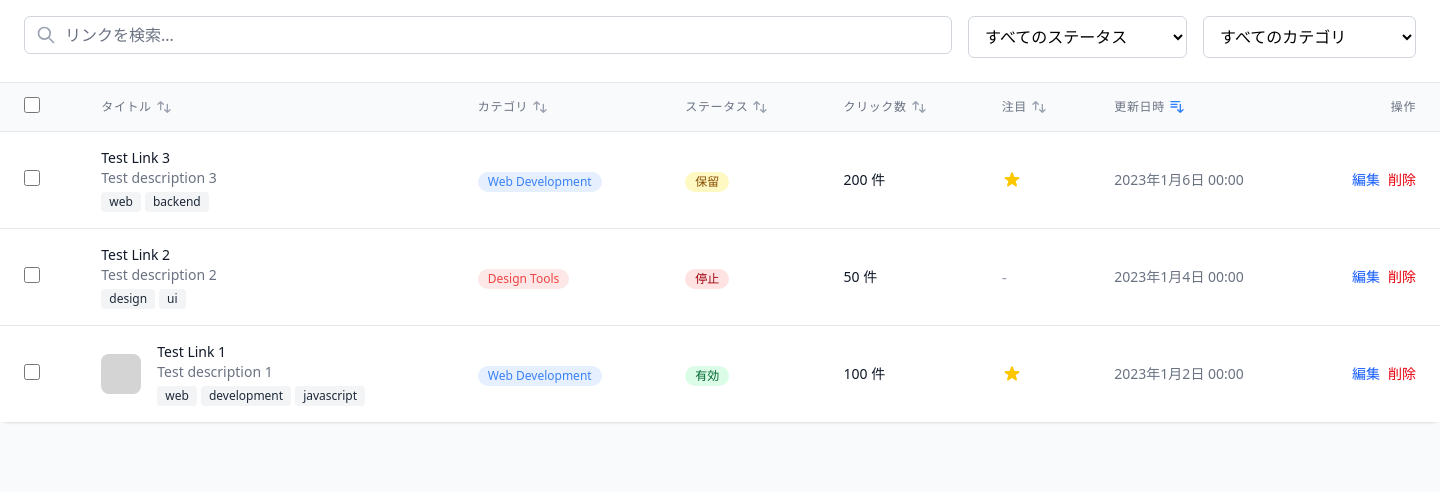
LinkManagementTable › handles link selection
Click the checkbox below "Test Link 3" at (32, 178), box [24,170,40,186]
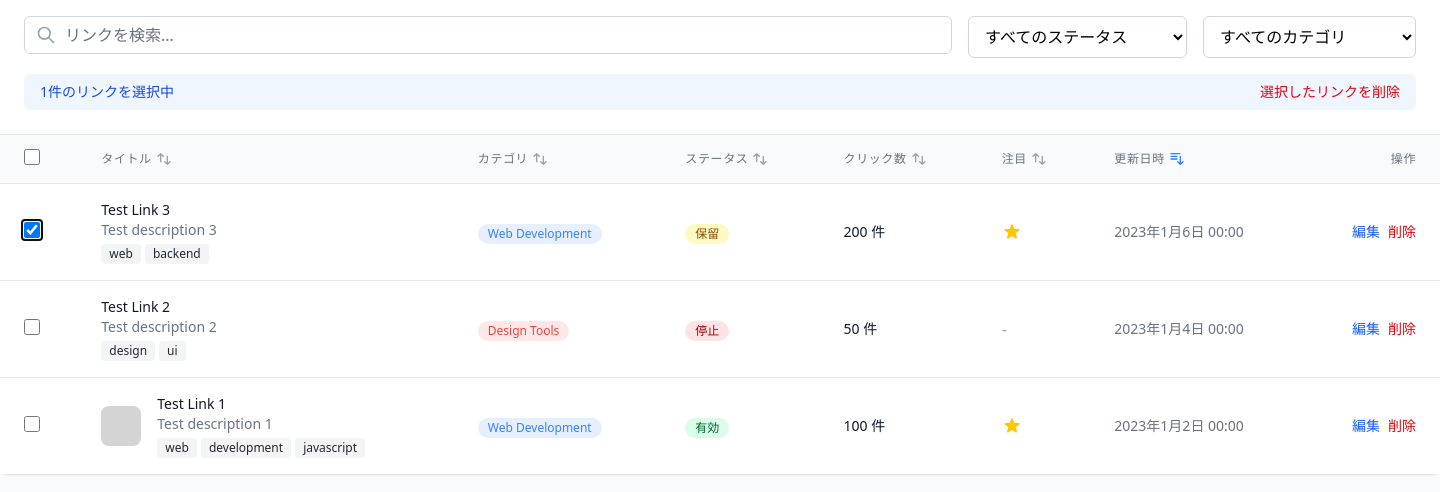
Expected: the text "1件のリンクを選択中" is shown, [40,82,174,102]
Expected: the button "選択したリンクを削除" is shown, [1260,82,1400,102]
